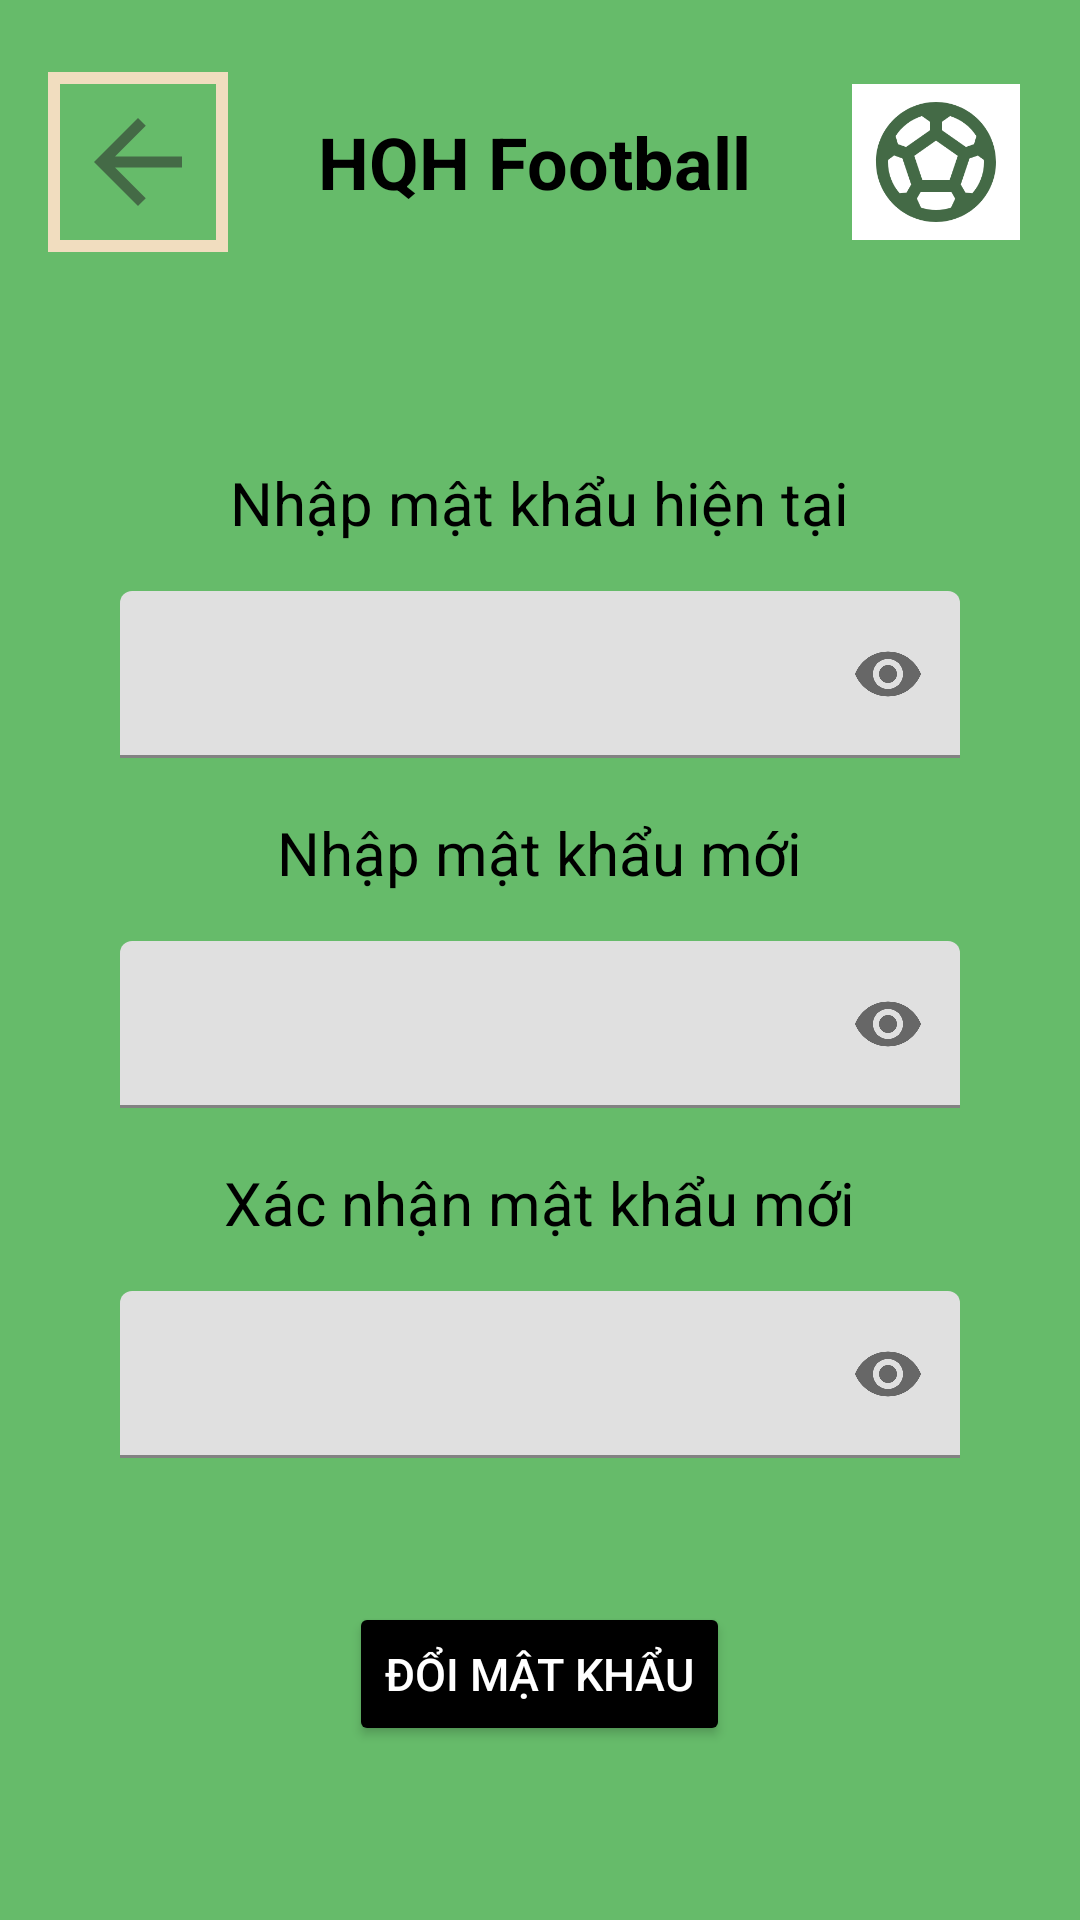

Screen size 1080px×1920px. Icon name, then its box in pixels as bbox(x1, y1, x2, y2):
back: bbox(48, 72, 228, 252)
soccer: bbox(852, 84, 1020, 240)
